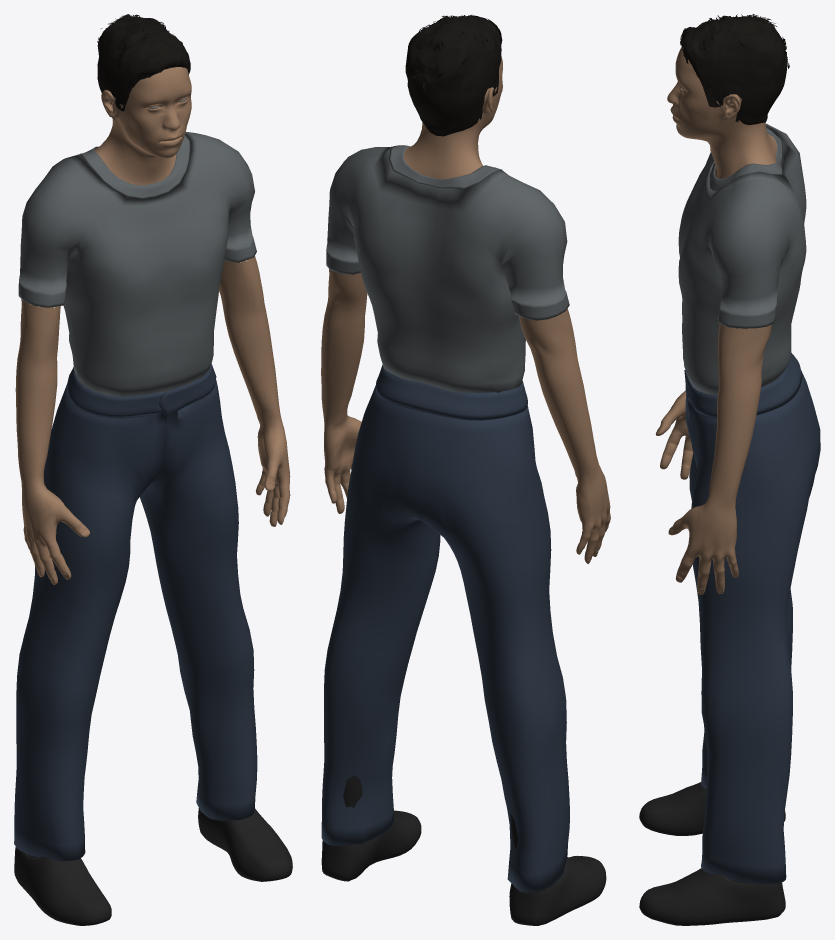
The model's file is slim.glb.
The picture shows the model from 3 angles, left to right: view 1: azimuth 30°, elevation 25°; view 2: azimuth 150°, elevation 25°; view 3: azimuth 270°, elevation 25°; orthographic projection. The views are drawn at different scales.
Visible parts, largest first — view 1: Pants, Shirt, Skin, Shoes, Head, Hair; view 2: Pants, Shirt, Skin, Hair, Shoes, Head; view 3: Pants, Shirt, Skin, Shoes, Hair, Head.
Boxes of the visible parts, x1,y1,x2,y2 form: Pants: (14, 363, 257, 861); Shirt: (18, 132, 256, 396); Skin: (15, 256, 290, 584); Shoes: (14, 808, 292, 925); Head: (94, 67, 191, 185); Hair: (97, 14, 190, 119); Pants: (321, 364, 569, 892); Shirt: (326, 145, 569, 392); Skin: (321, 269, 610, 563); Hair: (405, 14, 502, 136); Shoes: (321, 775, 606, 925); Head: (403, 56, 502, 179); Pants: (684, 353, 820, 884); Shirt: (678, 123, 806, 394); Skin: (656, 323, 771, 594); Shoes: (639, 782, 785, 925); Hair: (680, 14, 789, 124); Head: (667, 47, 776, 178).
Bounding box in the file's own units: 0.5686 × 1.76 × 0.3388.
